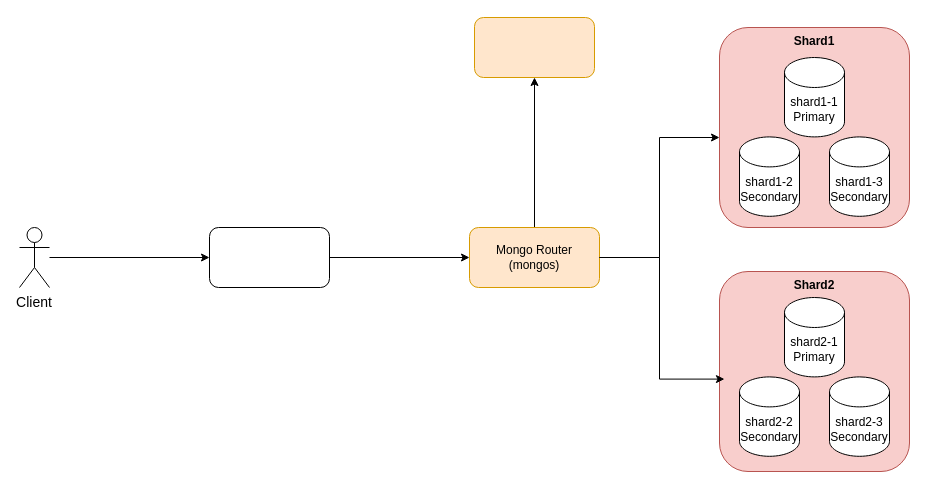
The diagram is 928 pixels wide and 489 high, and some of its shapes have lost their labels. Here are the shapes that lost their labels. From the top down, the centre of each, then its label:
[534,47]: configSrv
[269,257]: pymongo-api
